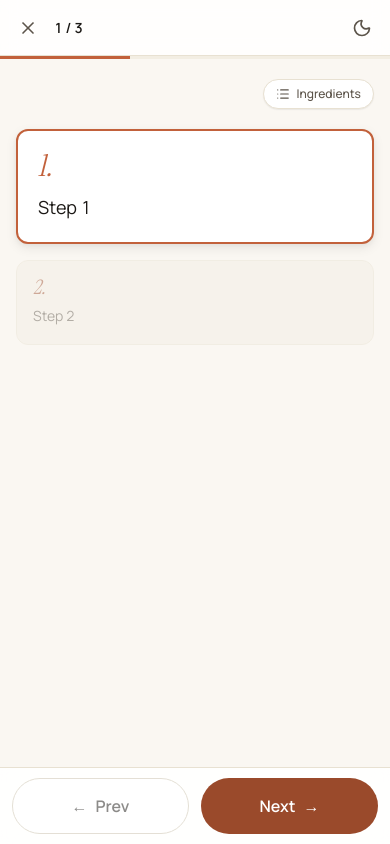
Test case: retries a rejected wake lock on the next tap
Expected: the text "Screen stays on" is not shown
Press the mouse on the text "Step 1" at (65, 207), box [38,195,92,219]
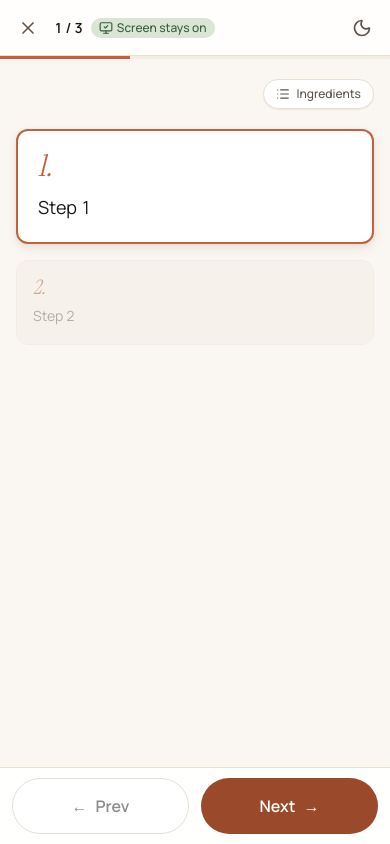
Now the text "Screen stays on" is shown 2 times
